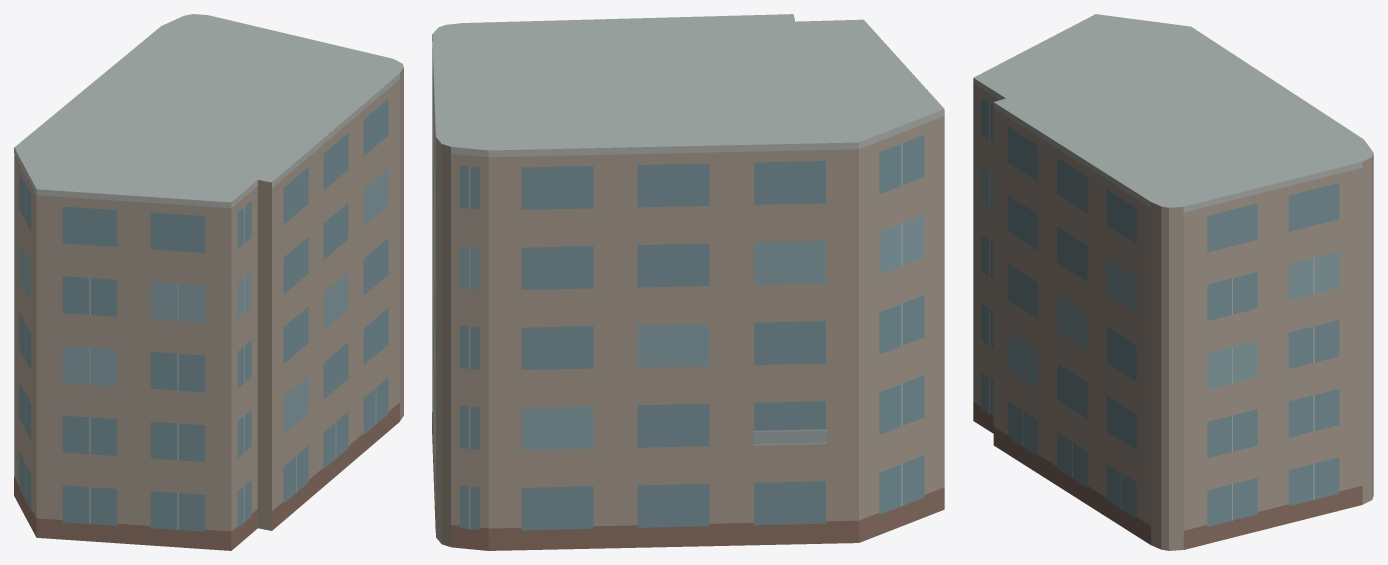
The model's file is survey-upis-32615825.glb.
The picture shows the model from 3 angles, left to right: view 1: azimuth 30°, elevation 25°; view 2: azimuth 150°, elevation 25°; view 3: azimuth 270°, elevation 25°; orthographic projection. The views are drawn at different scales.
Visible parts, largest first — view 1: survey-upis-32615825.tmp; view 2: survey-upis-32615825.tmp; view 3: survey-upis-32615825.tmp.
Part boxes in pixels (x1,y1,x2,y2): survey-upis-32615825.tmp: [14, 14, 403, 550]; survey-upis-32615825.tmp: [432, 14, 944, 550]; survey-upis-32615825.tmp: [973, 14, 1373, 550].
Size of the model in its own units: 17.44 by 14.4 by 15.23.
